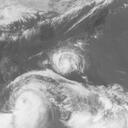cyclone: (9, 87, 48, 127), (51, 48, 85, 76)
